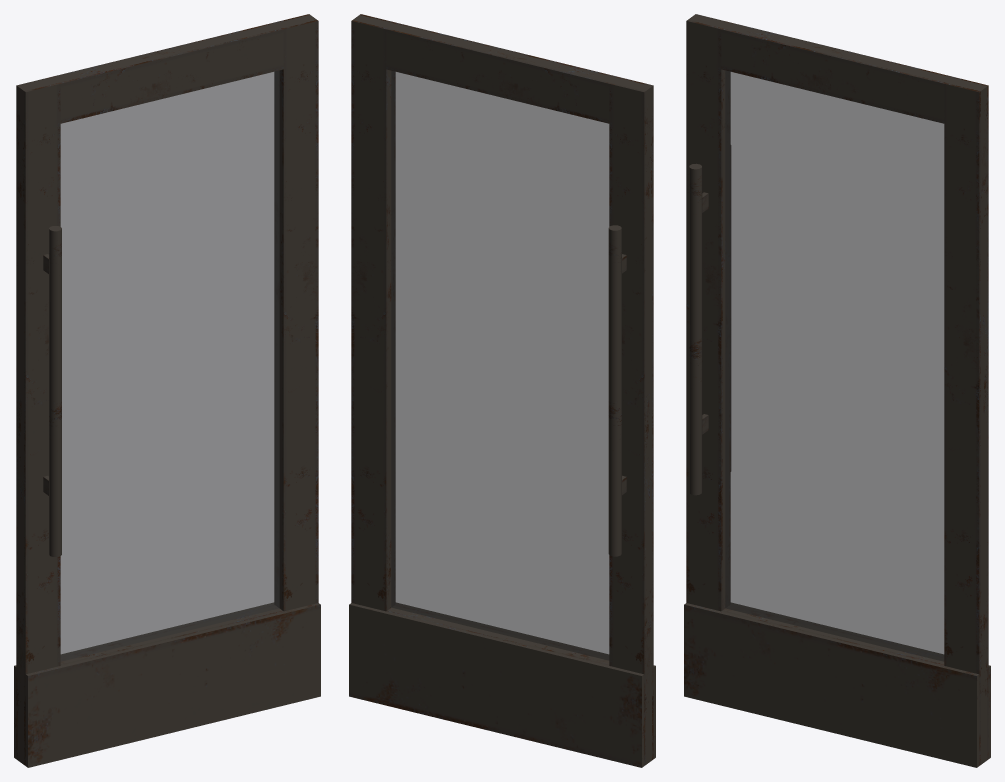
File: Door_2.gltf
3 renders of one model, left to right at view 1: azimuth 30°, elevation 25°; view 2: azimuth 150°, elevation 25°; view 3: azimuth 330°, elevation 25°, orthographic.
Parts seen in each view (by area): view 1: Door_2; view 2: Door_2; view 3: Door_2.
Boxes of the visible parts, bbox=[...] form: Door_2: bbox=[14, 14, 320, 767]; Door_2: bbox=[349, 14, 655, 767]; Door_2: bbox=[684, 14, 990, 767].
Bounding box in the file's own units: 1 × 2.2 × 0.2103.
2 materials, 1 textured.
